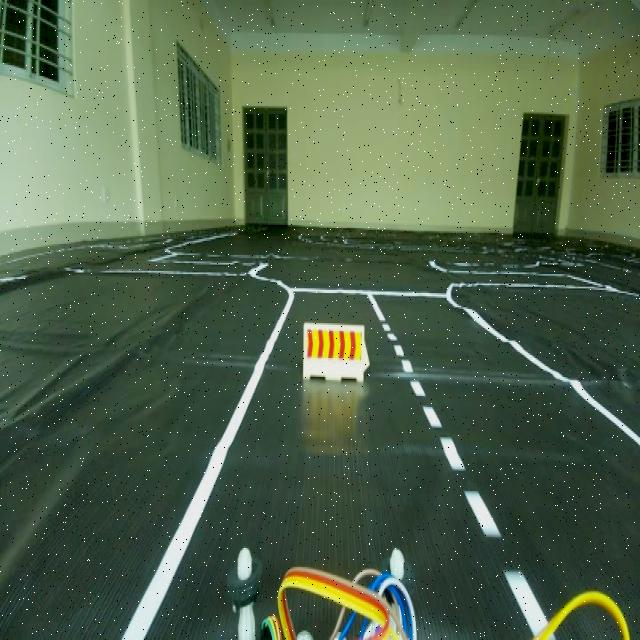roadblock: (297, 313, 376, 403)
